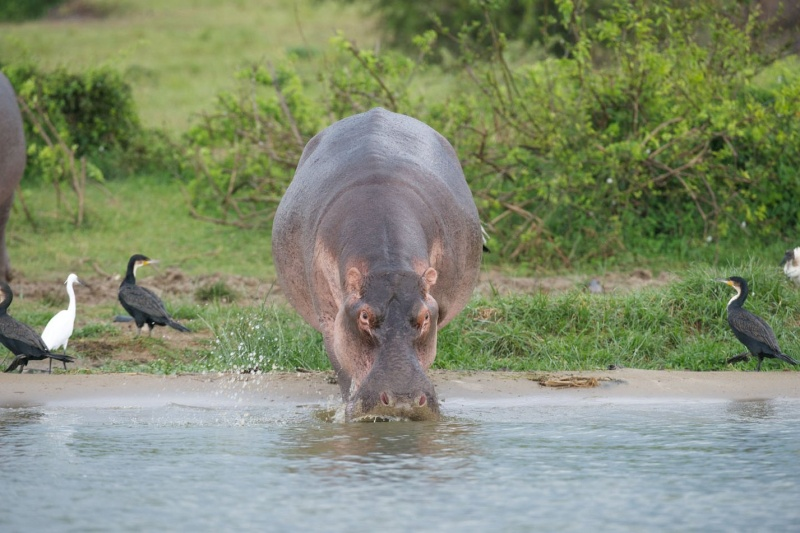hipopotamo: (269, 100, 484, 433)
